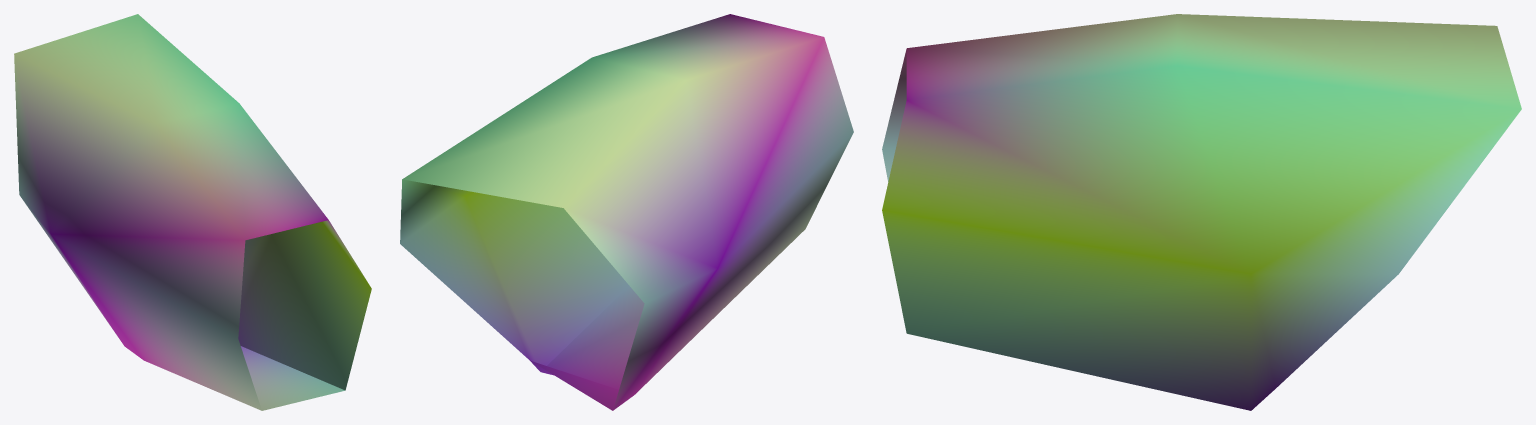
The picture shows the model from 3 angles, left to right: view 1: azimuth 30°, elevation 25°; view 2: azimuth 150°, elevation 25°; view 3: azimuth 270°, elevation 25°; orthographic projection. The views are drawn at different scales.
Parts seen in each view (by area): view 1: part; view 2: part; view 3: part.
Boxes of the visible parts, left/top/right/bottom form: part: left=14, top=14, right=371, bottom=410; part: left=400, top=14, right=853, bottom=410; part: left=882, top=14, right=1521, bottom=410.
Size of the model in its own units: 14 by 15 by 26.
